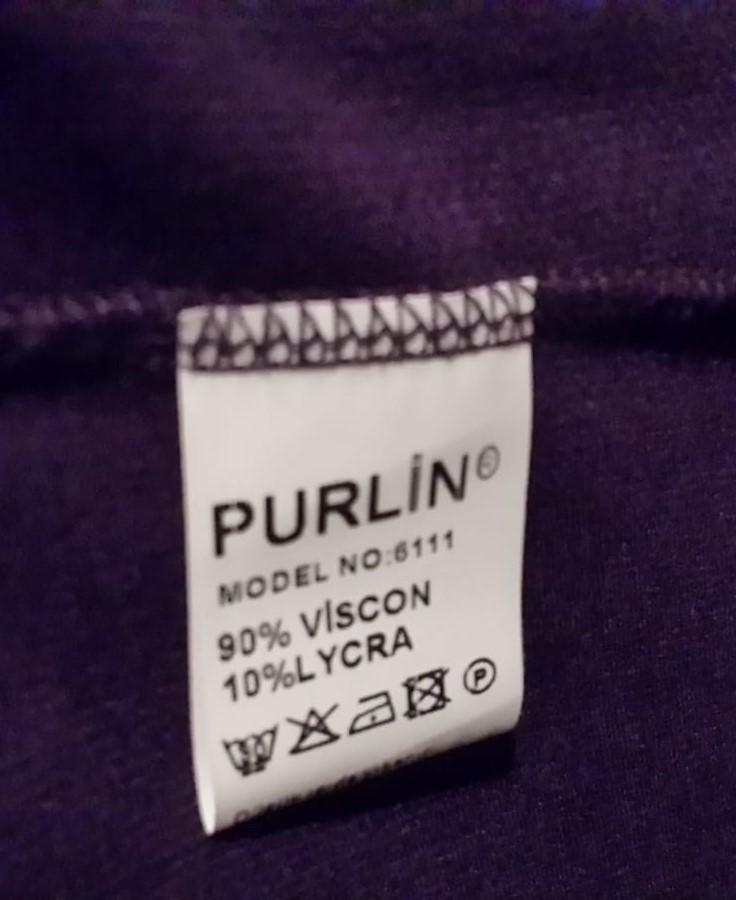30C: (221, 720, 280, 779)
DN_bleach: (290, 702, 343, 759)
DN_tumble_dry: (401, 666, 454, 725)
dry_clean_any_solvent_except_trichloroethylene: (463, 656, 503, 696)
iron_low: (347, 688, 398, 736)
